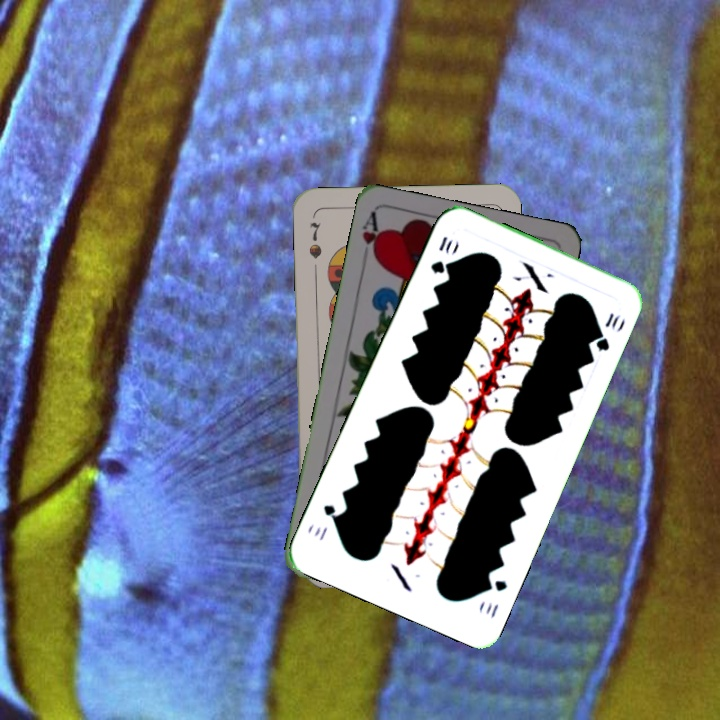G10: (480, 575, 510, 621), (426, 232, 455, 277)
HA: (358, 209, 385, 264)
S7: (304, 218, 325, 262)
